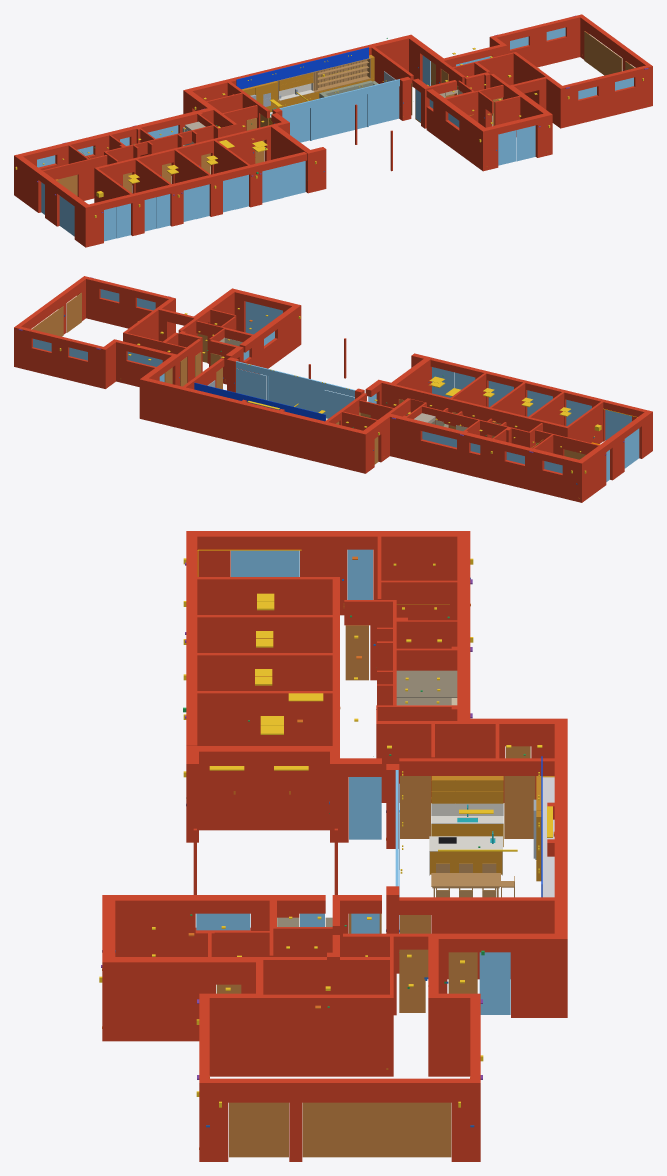
File: ground_floor.glb
The picture shows the model from 3 angles, top to bottom: view 1: azimuth 30°, elevation 25°; view 2: azimuth 150°, elevation 25°; view 3: azimuth 270°, elevation 25°; orthographic projection. The views are drawn at different scales.
Visible parts, largest first — view 1: masonry__W-002__, masonry__W-005__, masonry__W-013__, masonry__W-030__, masonry__W-054__, masonry__W-026__, masonry__W-027__, masonry__W-029__, glazing__WIN-OP28__, soffit_naturheld_140__SOFFIT-1.02-FACE__, glazing__WIN-OP21__ (×2), masonry__W-001__ (+38 smaller); view 2: masonry__W-029__, masonry__W-026__, masonry__W-027__, masonry__W-005__, masonry__W-030__, masonry__W-013__, masonry__W-054__, masonry__W-002__, masonry__W-025__, glazing__WIN-OP28__, masonry__W-067__, masonry__W-022__ (+31 smaller); view 3: masonry__W-049__, masonry__W-066__, masonry__W-067__, masonry__W-063__, masonry__W-030__, door__D-OP50__, masonry__W-054__, masonry__W-044__, masonry__W-060__, masonry__W-056__, masonry__W-034__, masonry__W-041__ (+41 smaller).
Boxes of the visible parts, bbox=[...] form: masonry__W-002__: bbox=[89, 152, 307, 245]; masonry__W-005__: bbox=[558, 65, 648, 128]; masonry__W-013__: bbox=[94, 125, 270, 202]; masonry__W-030__: bbox=[17, 156, 91, 247]; masonry__W-054__: bbox=[426, 89, 488, 171]; masonry__W-026__: bbox=[14, 107, 216, 197]; masonry__W-027__: bbox=[489, 15, 580, 67]; masonry__W-029__: bbox=[183, 34, 413, 113]; glazing__WIN-OP28__: bbox=[312, 94, 367, 140]; soffit_naturheld_140__SOFFIT-1.02-FACE__: bbox=[236, 47, 368, 89]; glazing__WIN-OP21__ (×2): bbox=[262, 161, 305, 202]; masonry__W-001__: bbox=[485, 113, 546, 169]; masonry__W-029__: bbox=[139, 377, 368, 473]; masonry__W-026__: bbox=[385, 413, 585, 502]; masonry__W-027__: bbox=[18, 326, 107, 388]; masonry__W-005__: bbox=[86, 277, 175, 333]; masonry__W-030__: bbox=[580, 410, 652, 500]; masonry__W-013__: bbox=[394, 384, 569, 437]; masonry__W-054__: bbox=[239, 304, 301, 374]; masonry__W-002__: bbox=[430, 358, 646, 441]; masonry__W-025__: bbox=[112, 339, 173, 386]; glazing__WIN-OP28__: bbox=[268, 376, 322, 413]; masonry__W-067__: bbox=[14, 276, 88, 367]; masonry__W-022__: bbox=[422, 406, 530, 447]; masonry__W-049__: bbox=[186, 746, 339, 830]; masonry__W-066__: bbox=[263, 994, 393, 1076]; masonry__W-067__: bbox=[199, 1078, 480, 1161]; masonry__W-063__: bbox=[102, 957, 263, 1041]; masonry__W-030__: bbox=[186, 531, 457, 615]; door__D-OP50__: bbox=[302, 1102, 451, 1157]; masonry__W-054__: bbox=[102, 895, 325, 956]; masonry__W-044__: bbox=[197, 691, 332, 745]; masonry__W-060__: bbox=[428, 933, 554, 1017]; masonry__W-056__: bbox=[399, 897, 554, 979]; masonry__W-034__: bbox=[197, 615, 332, 652]; masonry__W-041__: bbox=[197, 653, 332, 690].
Bounding box in the file's own units: 45.25 × 4.87 × 16.15.
